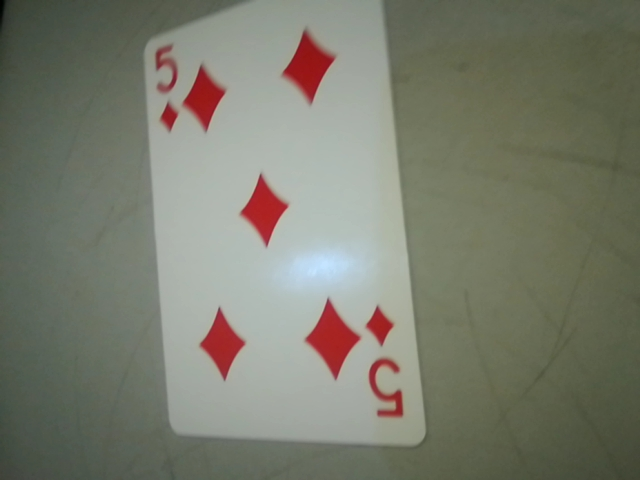fk 5: (354, 294, 416, 432)
